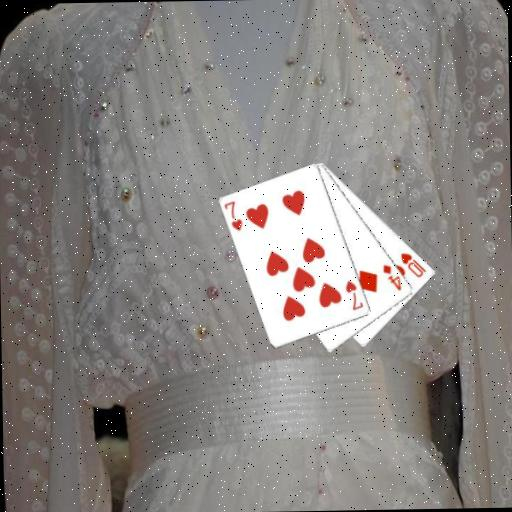10H: (397, 250, 428, 280)
4D: (380, 261, 404, 292)
7H: (221, 199, 245, 233), (342, 277, 365, 312)
